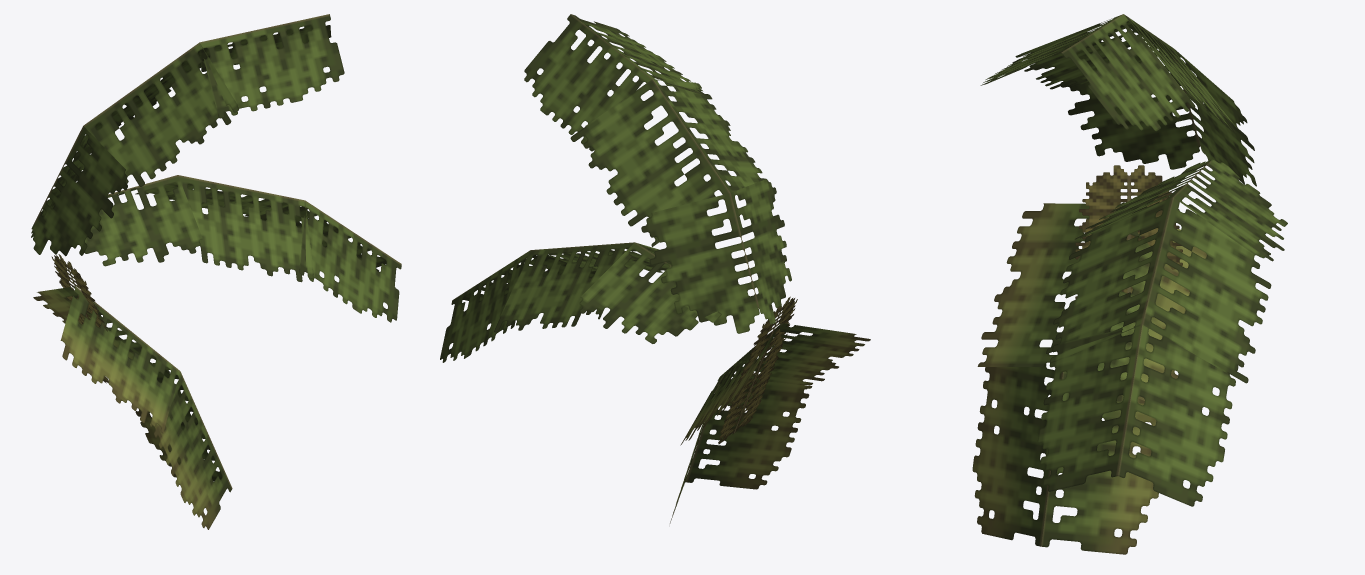
Rendered from coconut_palm_straight_2.obj.
3 views of the same model, side by side, from view 1: azimuth 30°, elevation 25°; view 2: azimuth 150°, elevation 25°; view 3: azimuth 270°, elevation 25° (orthographic). The views are drawn at different scales.
Visible parts, largest first — view 1: cube.231; view 2: cube.231; view 3: cube.231.
Boxes of the visible parts, <box> form: cube.231: <box>31,14,401,529</box>; cube.231: <box>440,14,870,523</box>; cube.231: <box>972,14,1287,554</box>.
Bounding box in the file's own units: 3.81 × 4.33 × 2.8.
